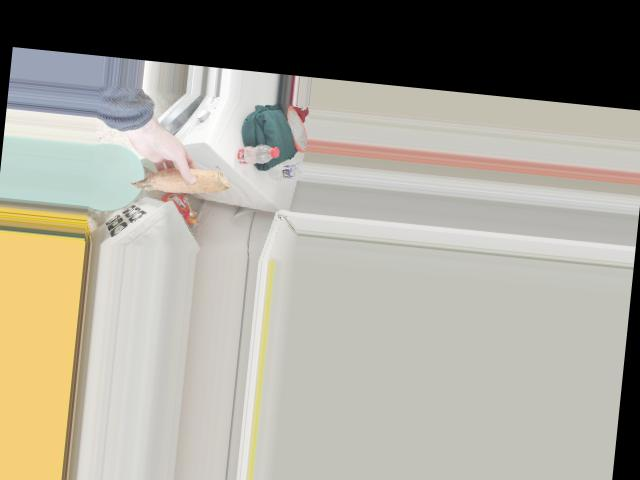sweet_potato: (136, 159, 222, 196)
